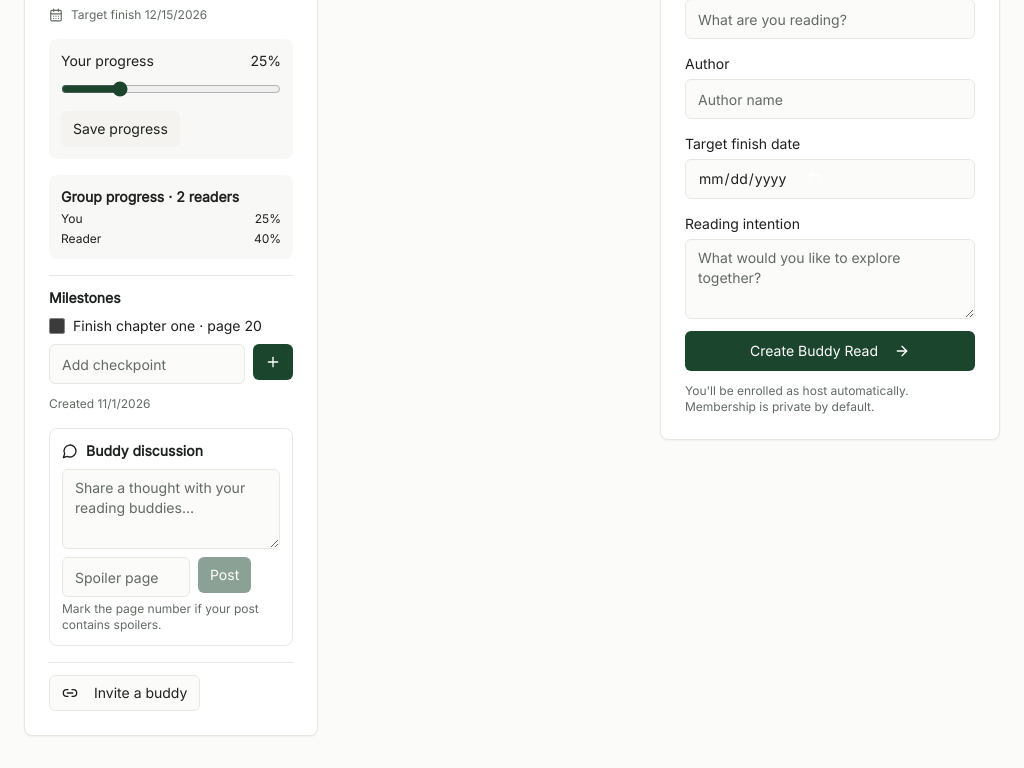
Test: BuddyReads page › creates and copies a private invite link for a Buddy Read
(page scrolled)
Click the button "Invite a buddy": (125, 693) [49,675,200,711]
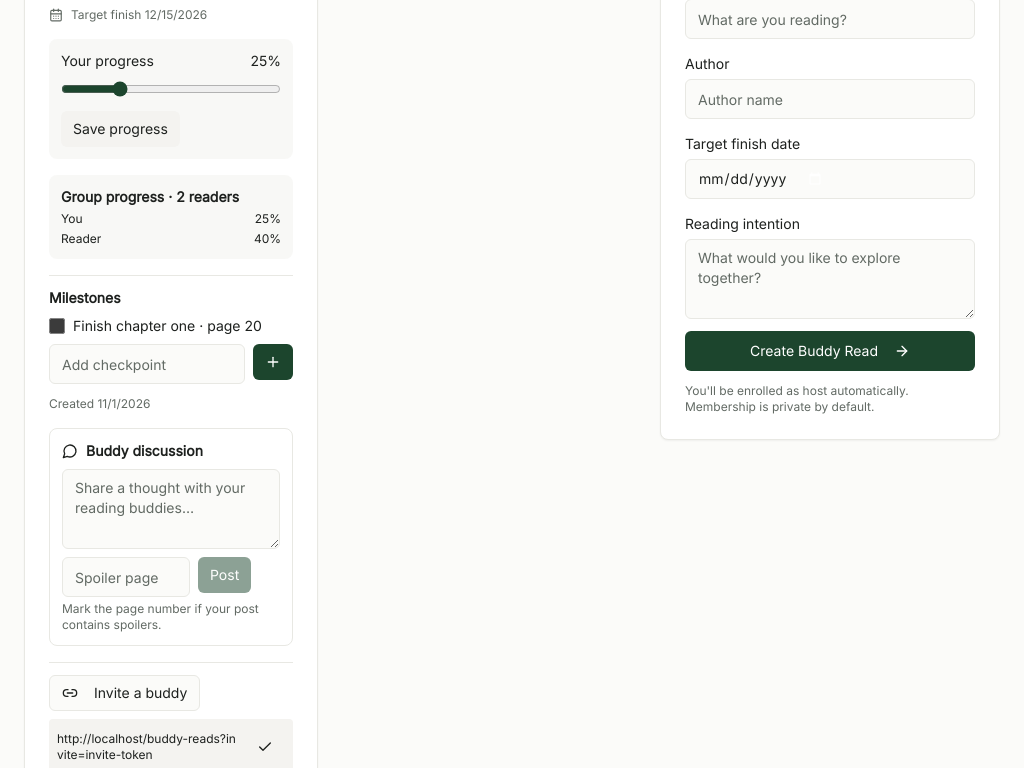
Now the text "http://localhost/buddy-reads?invite=invite-token" is shown, box [57,731,237,763]
